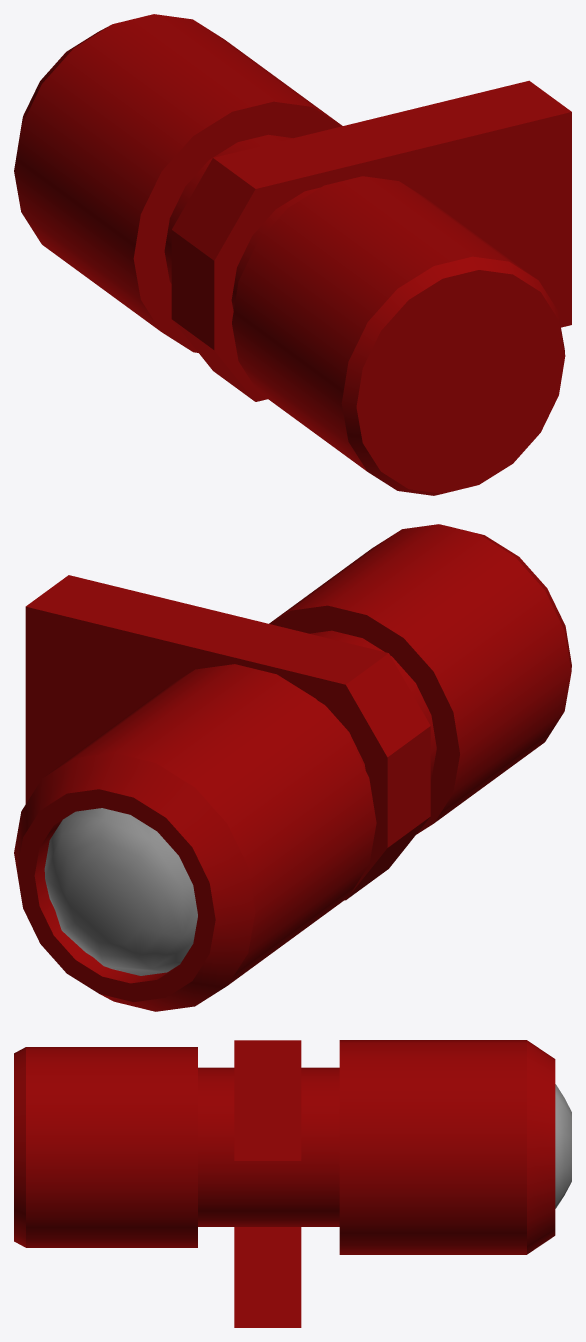
Rendered from M_weapon_flash_mod.FBX.
3 views of the same model, one above another, from view 1: azimuth 30°, elevation 25°; view 2: azimuth 150°, elevation 25°; view 3: azimuth 270°, elevation 25° (orthographic). The views are drawn at different scales.
Parts seen in each view (by area): view 1: FlashLight_Low; view 2: FlashLight_Low; view 3: FlashLight_Low.
Part boxes in pixels (x1,y1,x2,y2): FlashLight_Low: (14, 14, 571, 495); FlashLight_Low: (14, 524, 571, 1011); FlashLight_Low: (14, 1040, 571, 1327).
Size of the model in its own units: 8.43 by 14.01 by 5.33.
